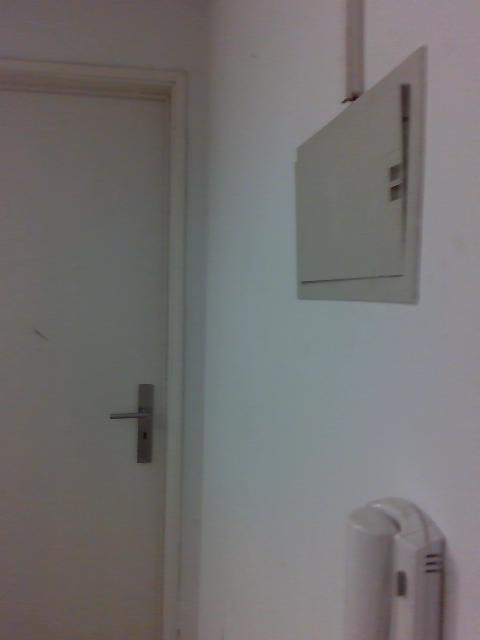door: (1, 89, 166, 636)
